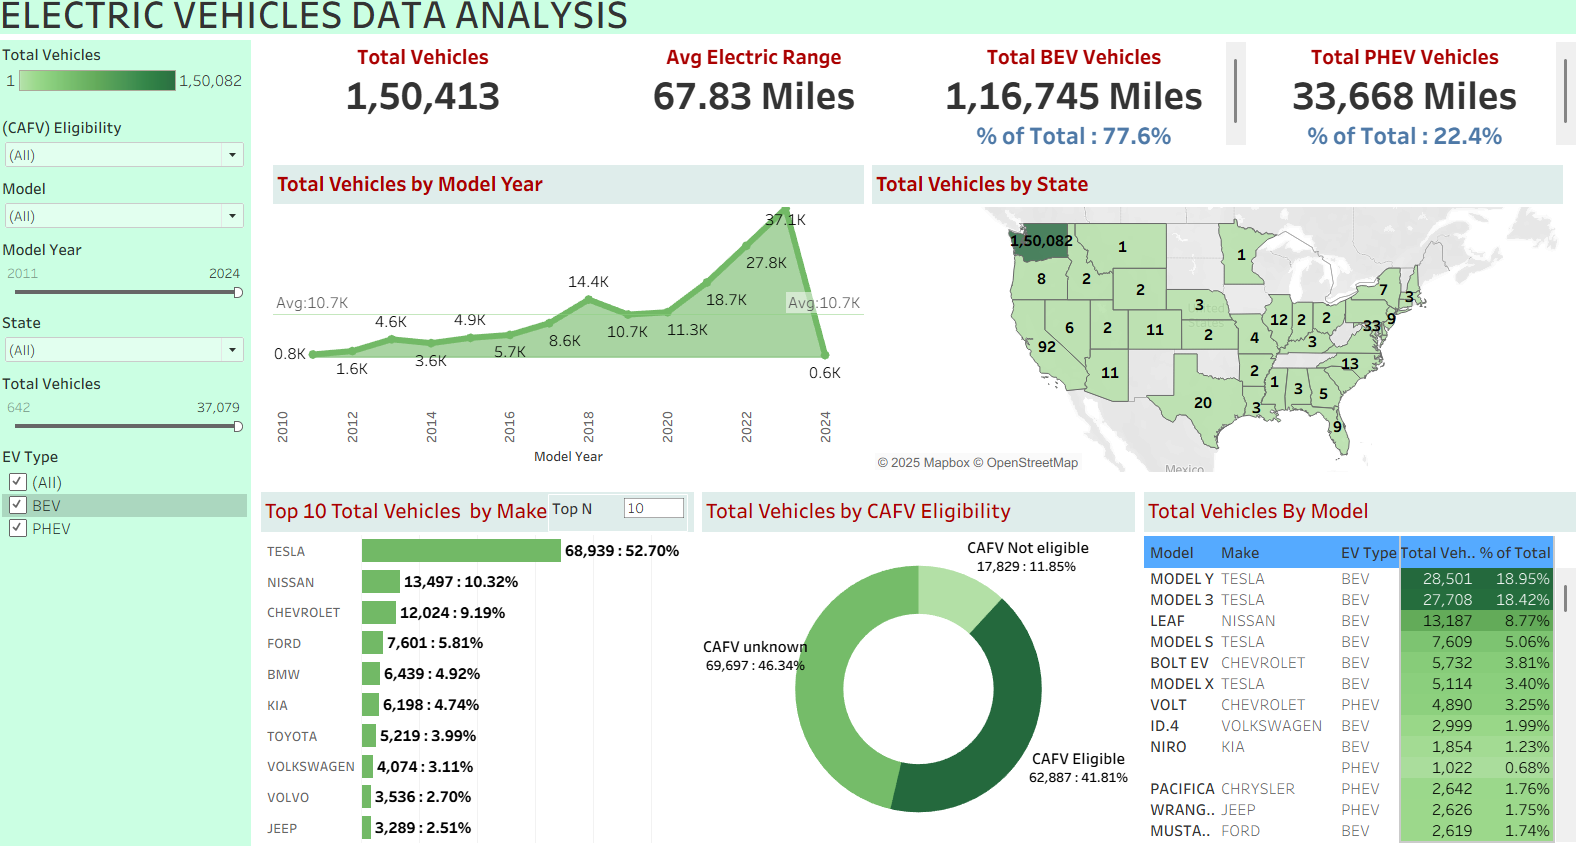

What the dashboard file says about the page in this screenshot:
{"tool":"tableau","page":{"name":"Dashboard 1","canvas":[1600,900],"ordinal":0},"visuals":[{"type":"title","box":[6,6,1588,47.2]},{"type":"worksheet","title":"Total Vehicles","mark":"Automatic","box":[271,53,331,111]},{"type":"worksheet","title":"Avg Electric Range","mark":"Automatic","box":[602,53,331,111]},{"type":"worksheet","title":"Total BEV Vehicles","mark":"Automatic","box":[933,53,331,111]},{"type":"worksheet","title":"Total PHEV Vehicles ","mark":"Automatic","box":[1264,53,330,111]},{"type":"legend","title":"Total Vehicles by State","param":"[federated.1xllezw0lch8rk19m2htr1jns37x].[usr:Calculation_1611725760018288640:qk","box":[12,55.2,253,73]},{"type":"filter","title":"Total Vehicles by Model Year","param":"[federated.1xllezw0lch8rk19m2htr1jns37x].[none:Clean Alternative Fuel Vehicle (C","box":[12,128.2,253,61]},{"type":"worksheet","title":"Total Vehicles by Model Year","mark":"Area","rows":["Calculation_1611725760018288640","Calculation_1611725760018288640"],"cols":["Model Year"],"box":[283,176.2,599.5,315]},{"type":"worksheet","title":"Total Vehicles by State","mark":"Multipolygon","box":[882.5,176.2,699.5,315]},{"type":"filter","title":"Total Vehicles by Model Year","param":"[federated.1xllezw0lch8rk19m2htr1jns37x].[none:Model:nk]","box":[12,189.2,253,61]},{"type":"filter","title":"Total Vehicles by Model Year","param":"[federated.1xllezw0lch8rk19m2htr1jns37x].[none:Model Year:qk]","box":[12,250.2,253,73]},{"type":"filter","title":"Total Vehicles by Model Year","param":"[federated.1xllezw0lch8rk19m2htr1jns37x].[none:State:nk]","box":[12,323.2,253,61]},{"type":"filter","title":"Total Vehicles by Model Year","param":"[federated.1xllezw0lch8rk19m2htr1jns37x].[usr:Calculation_1611725760018288640:qk","box":[12,384.2,253,73]},{"type":"filter","title":"Total Vehicles by Model Year","param":"[federated.1xllezw0lch8rk19m2htr1jns37x].[none:Electric Vehicle Type:nk]","box":[12,457.2,253,105]},{"type":"worksheet","title":"Top 10 Total Vehicles by Make","mark":"Automatic","rows":["Make"],"cols":["Calculation_1611725760018288640"],"box":[271,503,441,359]},{"type":"worksheet","title":"Total Vehicles by CAFV Eligibility","mark":"Pie","rows":["Calculation_1611725760078430216","Calculation_1611725760078479370"],"box":[712,503,441,359]},{"type":"worksheet","title":"Total Vehicles By Model","mark":"Square","rows":["Model","Make","Electric Vehicle Type"],"box":[1153,503,441,359]},{"type":"parameter","param":"[Parameters].[Parameter 1]","box":[562,509,140,38]},{"type":"blank","box":[12,562.2,253,291]}]}

Visuals, with their boxes on the page's 1600x900 design canvas (x1, y1, x2, y2). These are canvas units, not pixel positions in the 1577x846 screenshot, which may show the page scaled, cropped or inside an application window:
title: bbox=[6, 6, 1594, 53]
"Total Vehicles" worksheet: bbox=[271, 53, 602, 164]
"Avg Electric Range" worksheet: bbox=[602, 53, 933, 164]
"Total BEV Vehicles" worksheet: bbox=[933, 53, 1264, 164]
"Total PHEV Vehicles " worksheet: bbox=[1264, 53, 1594, 164]
"Total Vehicles by State" legend: bbox=[12, 55, 265, 128]
"Total Vehicles by Model Year" filter: bbox=[12, 128, 265, 189]
"Total Vehicles by Model Year" worksheet (Area marks): bbox=[283, 176, 882, 491]
"Total Vehicles by State" worksheet (Multipolygon marks): bbox=[882, 176, 1582, 491]
"Total Vehicles by Model Year" filter: bbox=[12, 189, 265, 250]
"Total Vehicles by Model Year" filter: bbox=[12, 250, 265, 323]
"Total Vehicles by Model Year" filter: bbox=[12, 323, 265, 384]
"Total Vehicles by Model Year" filter: bbox=[12, 384, 265, 457]
"Total Vehicles by Model Year" filter: bbox=[12, 457, 265, 562]
"Top 10 Total Vehicles by Make" worksheet: bbox=[271, 503, 712, 862]
"Total Vehicles by CAFV Eligibility" worksheet (Pie marks): bbox=[712, 503, 1153, 862]
"Total Vehicles By Model" worksheet (Square marks): bbox=[1153, 503, 1594, 862]
parameter: bbox=[562, 509, 702, 547]
blank: bbox=[12, 562, 265, 853]
